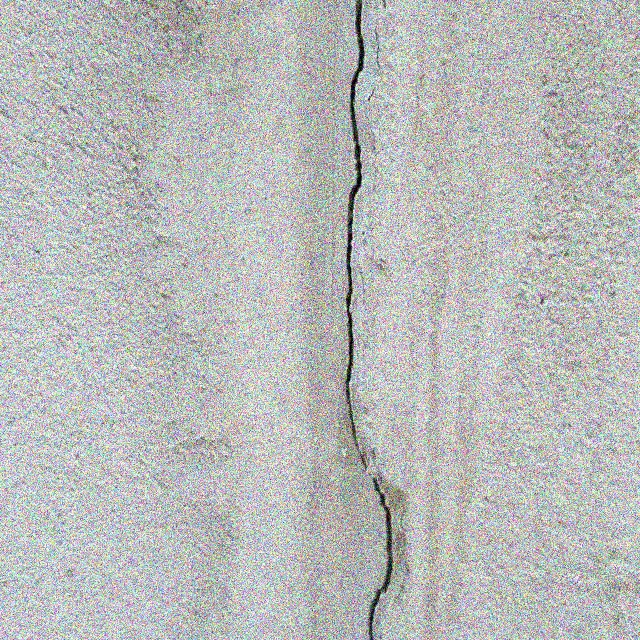SurfaceCrack: (297, 1, 440, 640)
